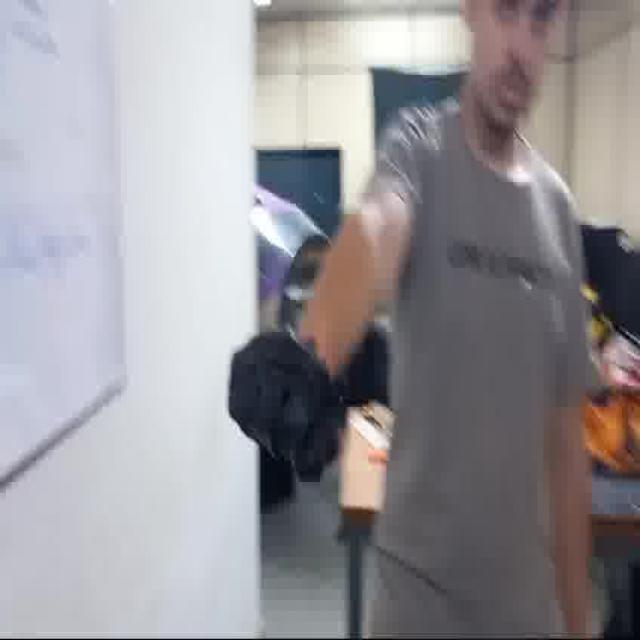Gloves: (226, 323, 344, 482)
